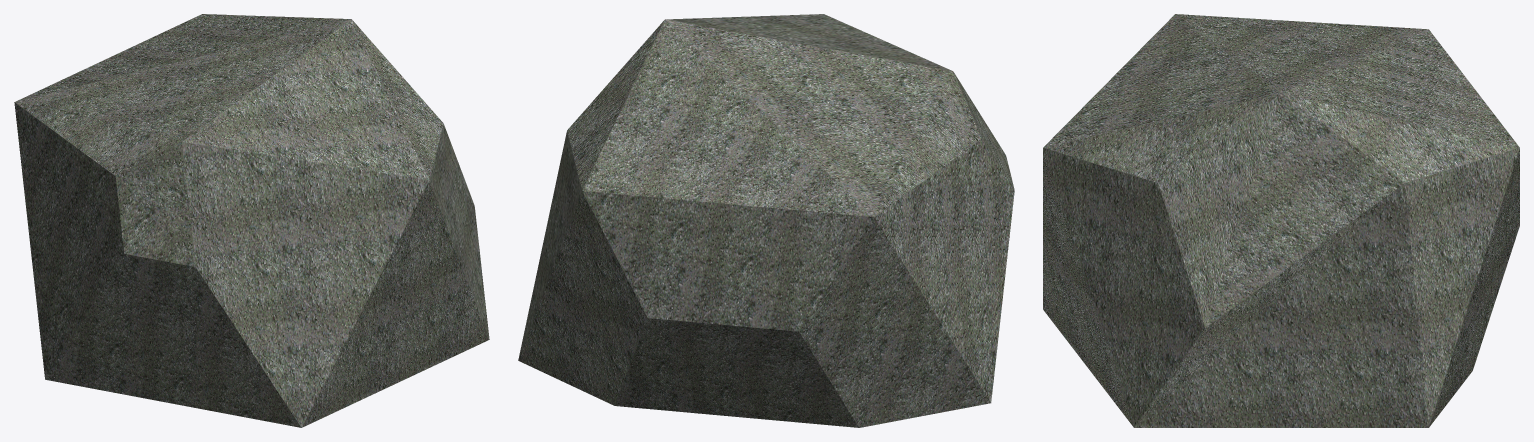
Rendered from Rock3.glb.
3 views of the same model, side by side, from view 1: azimuth 30°, elevation 25°; view 2: azimuth 150°, elevation 25°; view 3: azimuth 270°, elevation 25° (orthographic). The views are drawn at different scales.
Visible parts, largest first — view 1: Rock.002; view 2: Rock.002; view 3: Rock.002.
Part boxes in pixels (bbox=[...]): Rock.002: bbox=[14, 14, 489, 427]; Rock.002: bbox=[518, 14, 1014, 427]; Rock.002: bbox=[1043, 14, 1519, 427].
Size of the model in its own units: 1.7 by 1.18 by 1.7.
Materials: 1 (1 with a texture image).
